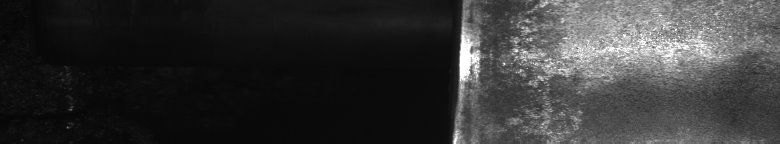kb: (472, 4, 771, 134)
